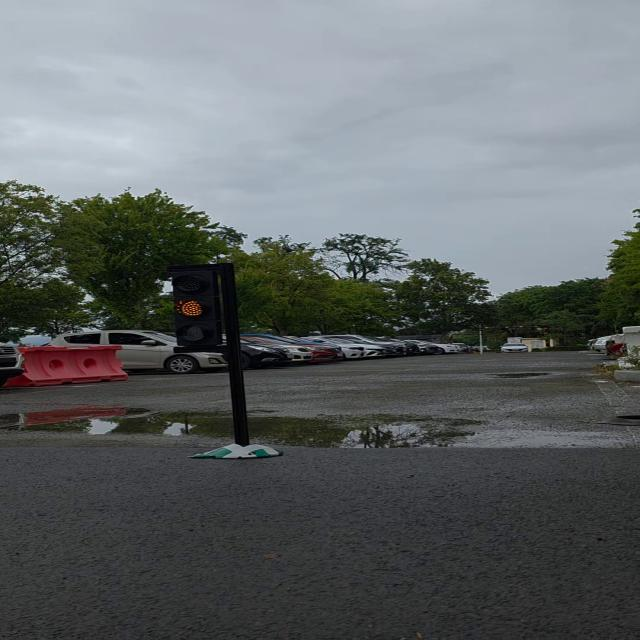yellow: (156, 259, 237, 359)
